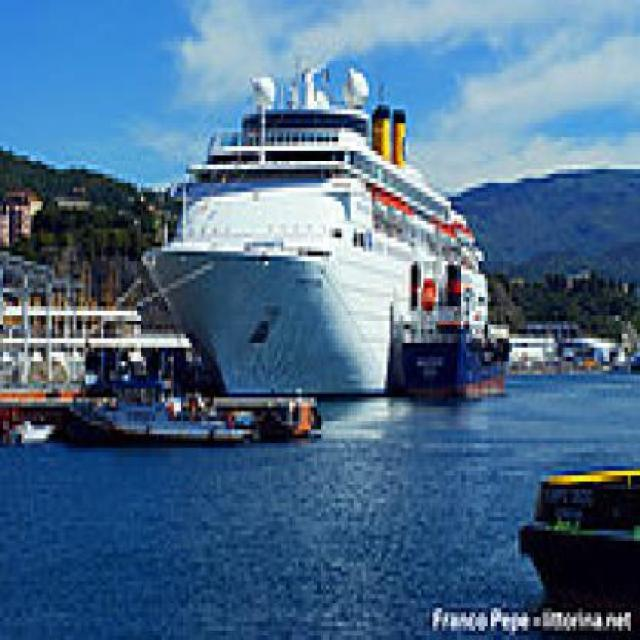cruise: (132, 43, 504, 421)
